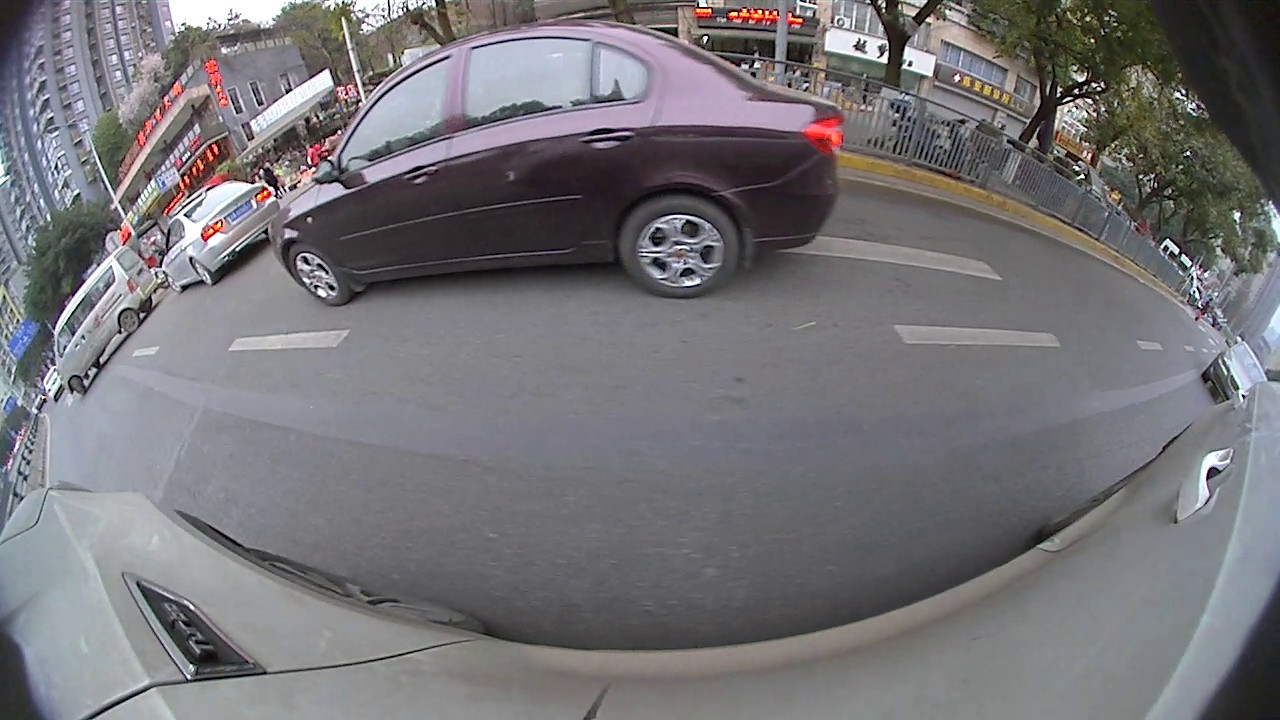car: (650, 66, 1059, 313), (61, 183, 220, 328), (271, 81, 442, 179), (1184, 378, 1251, 471), (526, 65, 650, 113), (1085, 256, 1159, 324)
front: (996, 262, 1047, 311), (109, 281, 141, 318)
rear: (783, 198, 871, 280), (372, 127, 402, 156)
rider: (1093, 280, 1182, 379)
